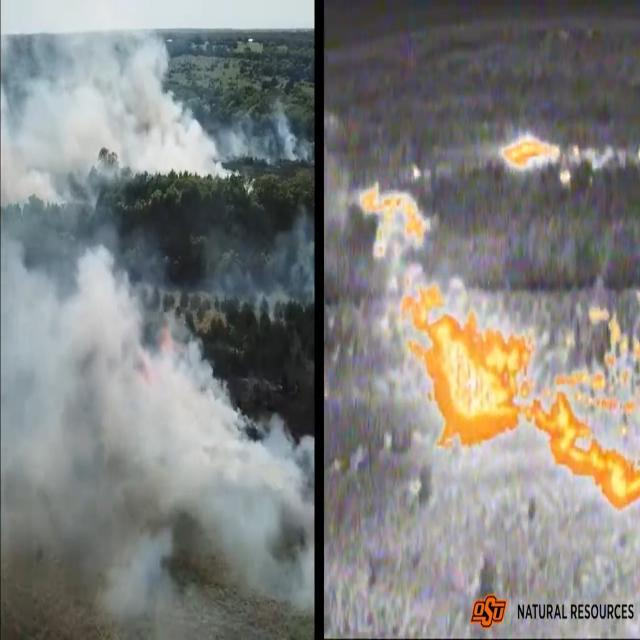fire: (401, 267, 540, 455), (535, 307, 640, 514), (359, 184, 434, 263), (499, 132, 574, 188)
